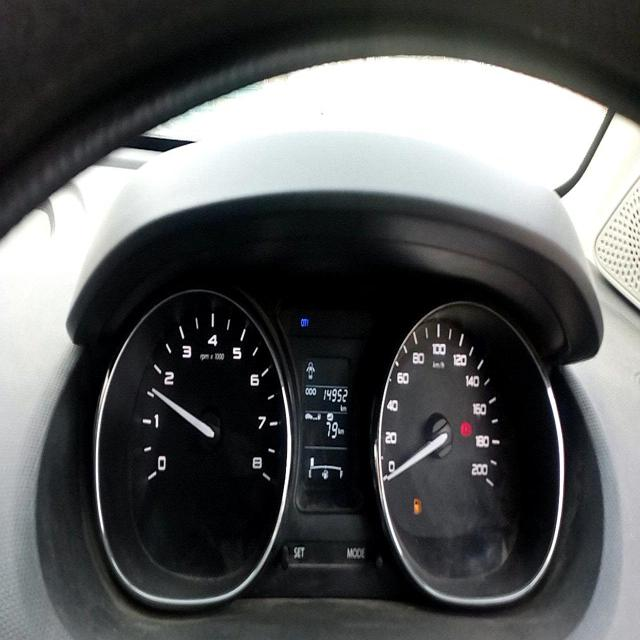odometer: (320, 385, 348, 406)
